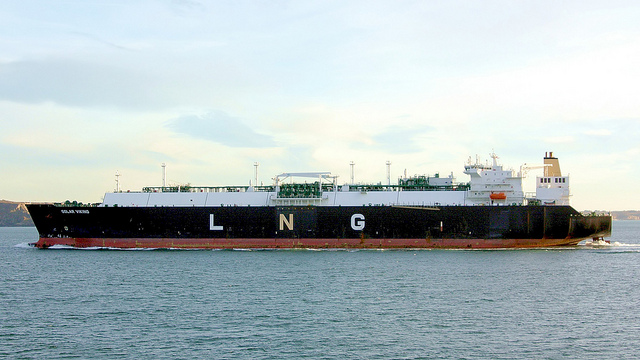LNG_ship: (23, 148, 618, 248)
